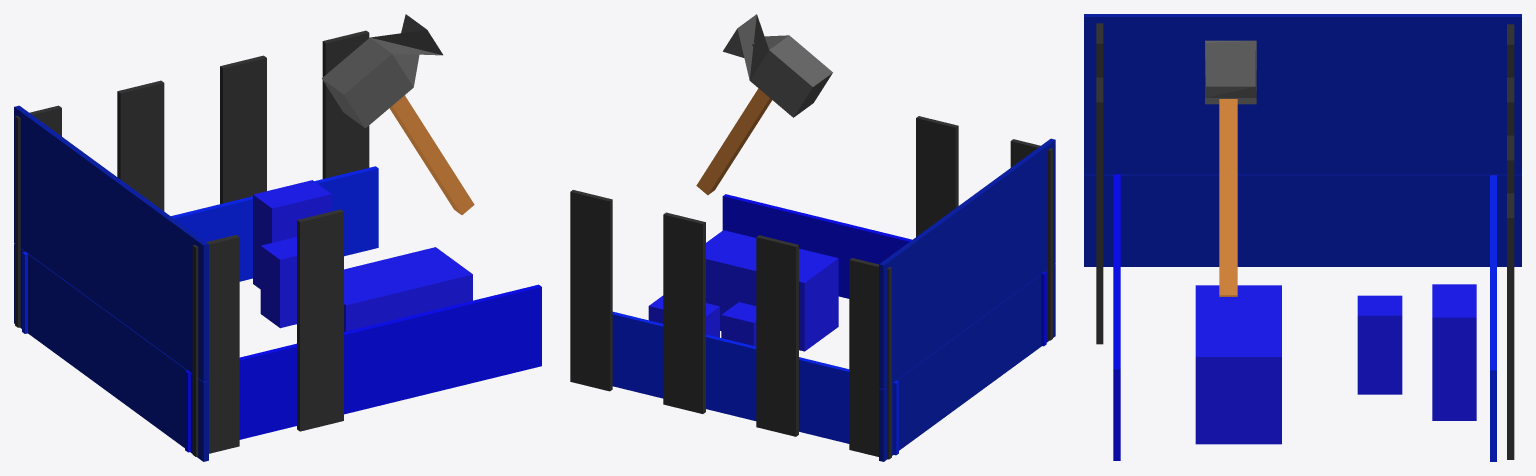
The model's file is warehouseConstruction.glb.
The picture shows the model from 3 angles, left to right: view 1: azimuth 30°, elevation 25°; view 2: azimuth 150°, elevation 25°; view 3: azimuth 270°, elevation 25°; orthographic projection. The views are drawn at different scales.
Parts seen in each view (by area): view 1: Cube.288, Cube.291, Cube.293, Cube.294, Cube.307, Cube.296, Cube.086, Cube.298, Cube.297, Cube.001, Cube.305, Cube.309 (+2 smaller); view 2: Cube.288, Cube.296, Cube.297, Cube.298, Cube.001, Cube.307, Cube.291, Cube.300, Cube.086, Cube.293, Cube.085, Cube.294 (+2 smaller); view 3: Cube.288, Cube.307, Cube.305, Cube.309, Cube.085, Cube.086, Cube.291, Cube.293, Cube.001, Cube.296, Cube.297, Cube.298.
Boxes of the visible parts, x1,y1,x2,y2 form: Cube.288: (14, 105, 208, 461); Cube.291: (185, 284, 541, 452); Cube.293: (297, 209, 343, 431); Cube.294: (192, 235, 239, 456); Cube.307: (344, 247, 472, 331); Cube.296: (22, 166, 378, 333); Cube.086: (322, 14, 442, 128); Cube.298: (220, 55, 266, 203); Cube.297: (117, 80, 164, 210); Cube.001: (322, 30, 369, 178); Cube.305: (253, 180, 331, 289); Cube.309: (260, 237, 296, 328); Cube.288: (879, 138, 1055, 461); Cube.296: (612, 311, 898, 455); Cube.297: (756, 235, 798, 436); Cube.298: (663, 212, 705, 413); Cube.001: (570, 190, 612, 391); Cube.307: (706, 230, 838, 351); Cube.291: (722, 194, 1046, 346); Cube.300: (849, 258, 891, 459); Cube.086: (723, 14, 832, 117); Cube.293: (916, 116, 958, 236); Cube.085: (696, 88, 772, 195); Cube.294: (1010, 139, 1052, 340); Cube.288: (1084, 14, 1521, 266); Cube.307: (1195, 285, 1281, 444); Cube.305: (1432, 284, 1476, 420); Cube.309: (1357, 295, 1402, 394); Cube.085: (1219, 99, 1237, 296); Cube.086: (1205, 40, 1256, 104); Cube.291: (1113, 174, 1120, 460); Cube.293: (1096, 77, 1103, 344); Cube.001: (1507, 193, 1514, 459); Cube.296: (1490, 175, 1496, 461); Cube.297: (1507, 77, 1514, 135); Cube.298: (1507, 135, 1514, 193).
Bounding box in the file's own units: 5.53 × 4.88 × 5.12.
